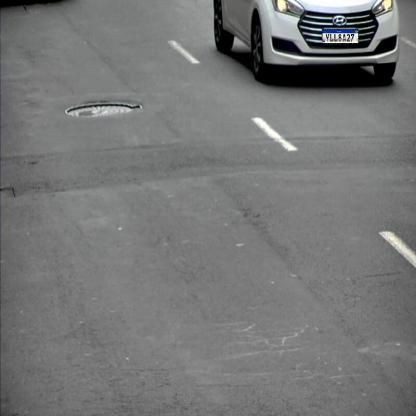PlacaM: (322, 29, 359, 44)
